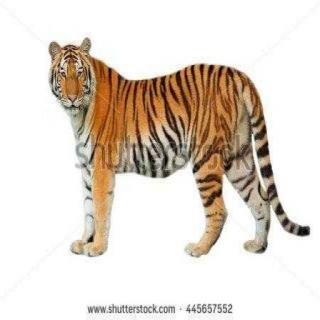Tiger: (37, 22, 308, 256)
